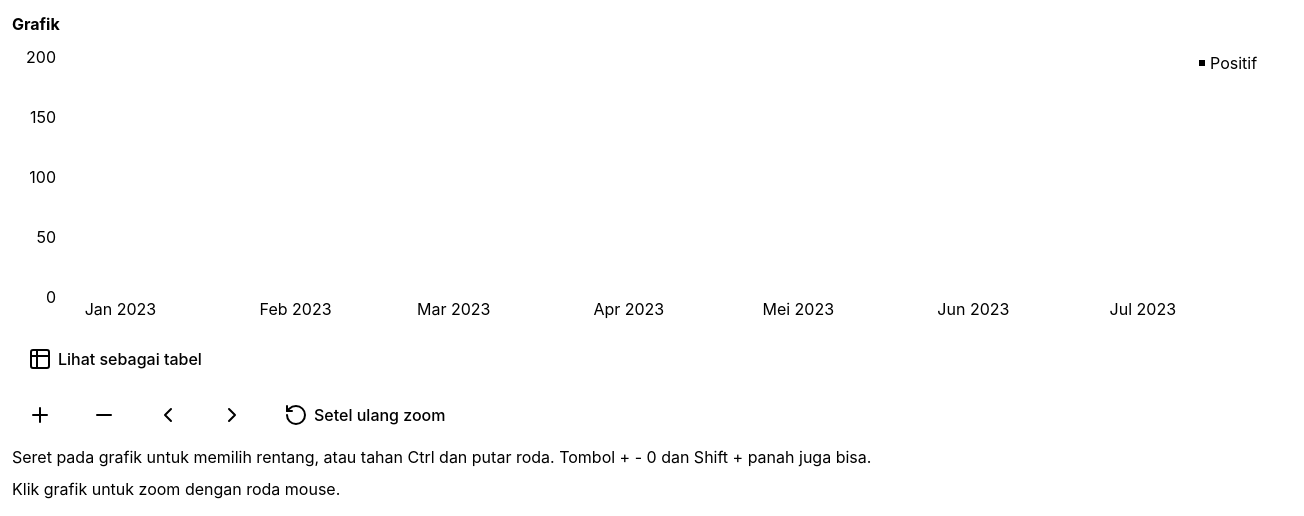
zoom on TimeSeriesChart › starts unzoomed with the reset button disabled, buttons zoom in and reset
Expected: the button with test id "zoom-reset" is disabled, [268,393,462,437]
Step 1. Click the button named "Perbesar" → (40, 415), box [12,393,68,437]
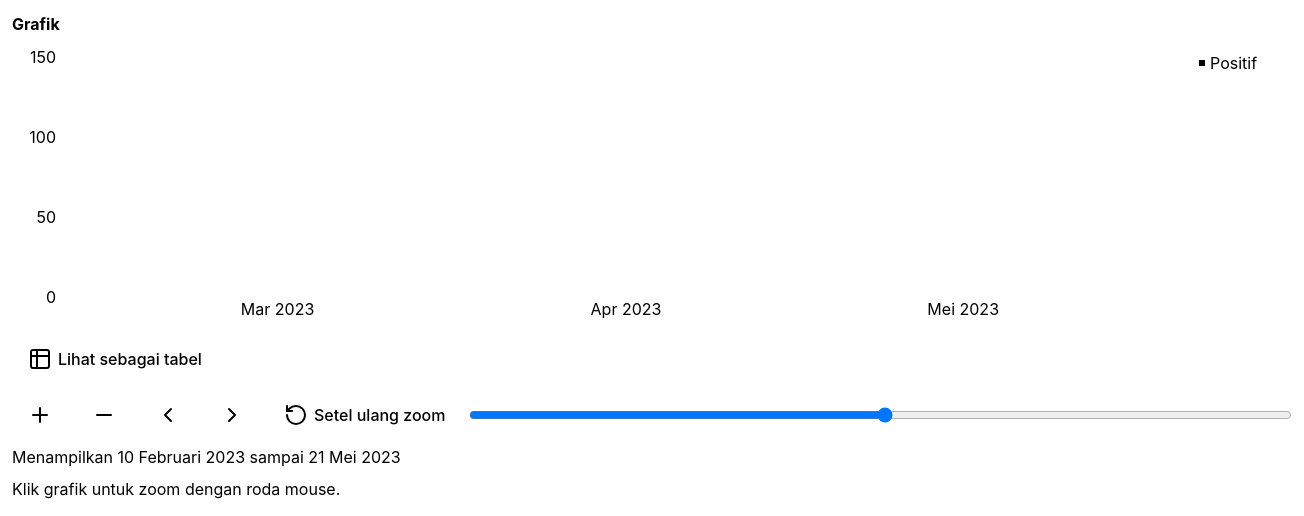
Now the message with test id "zoom-status" reads "Menampilkan 10 Februari 2023 sampai 21 Mei 2023", box [12,447,401,467]
Step 2. Click the button with test id "zoom-reset" → (365, 415), box [268,393,462,437]
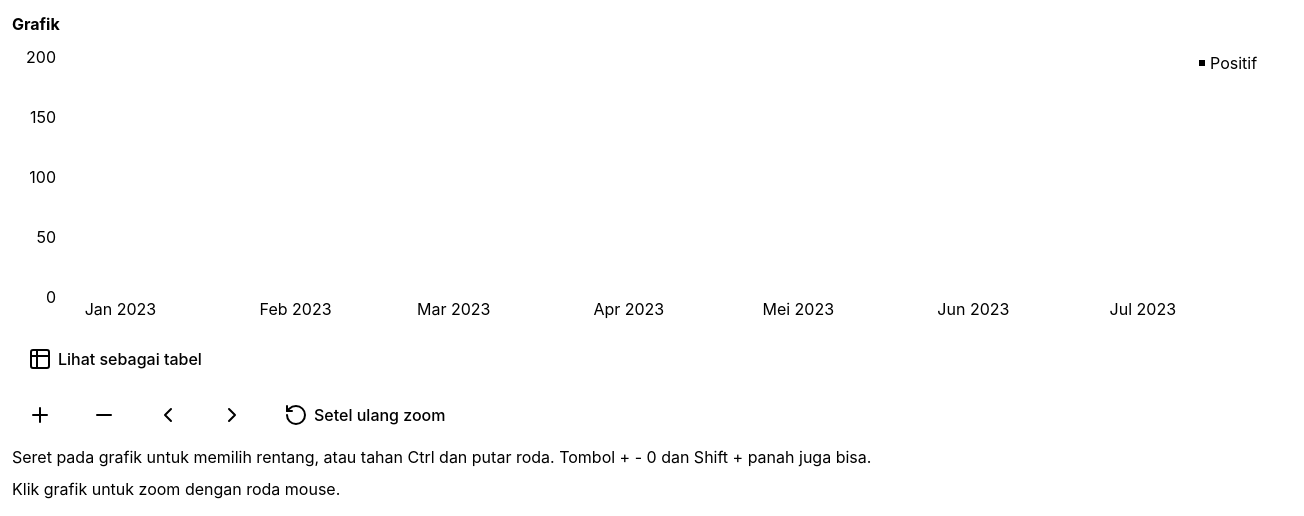
Now the message with test id "zoom-status" shows "Seret pada grafik", box [12,447,871,467]
